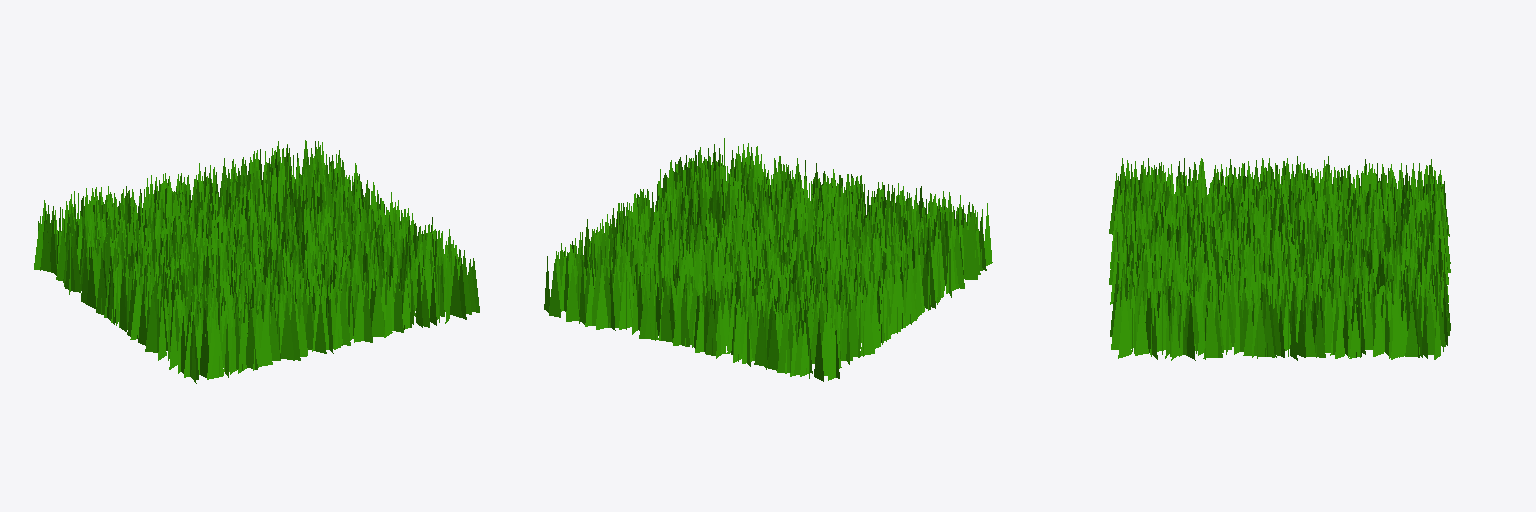
Rendered from grassBlades.obj.
3 views of the same model, side by side, from view 1: azimuth 30°, elevation 25°; view 2: azimuth 150°, elevation 25°; view 3: azimuth 270°, elevation 25° (orthographic).
Parts seen in each view (by area): view 1: Blade.001; view 2: Blade.001; view 3: Blade.001.
Part boxes in pixels (left/top/right/bottom): Blade.001: left=34, top=140, right=479, bottom=383; Blade.001: left=544, top=138, right=992, bottom=381; Blade.001: left=1109, top=156, right=1450, bottom=360.
Size of the model in its own units: 17.39 by 3.68 by 17.38.